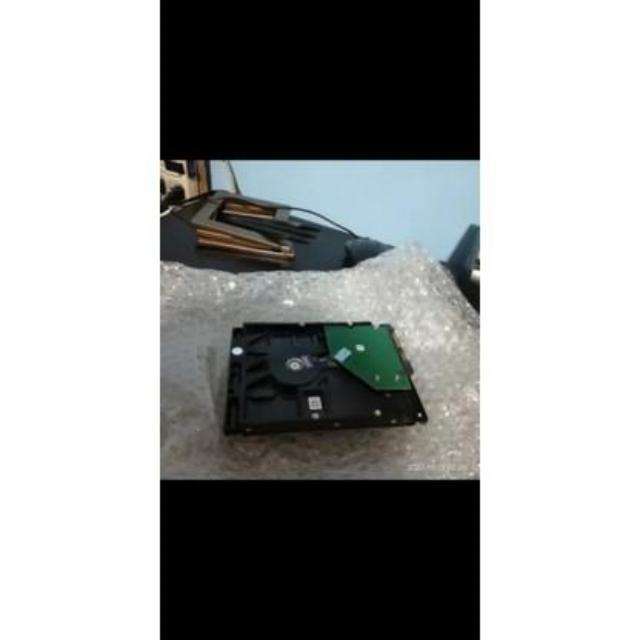DISK: (227, 321, 436, 439)
